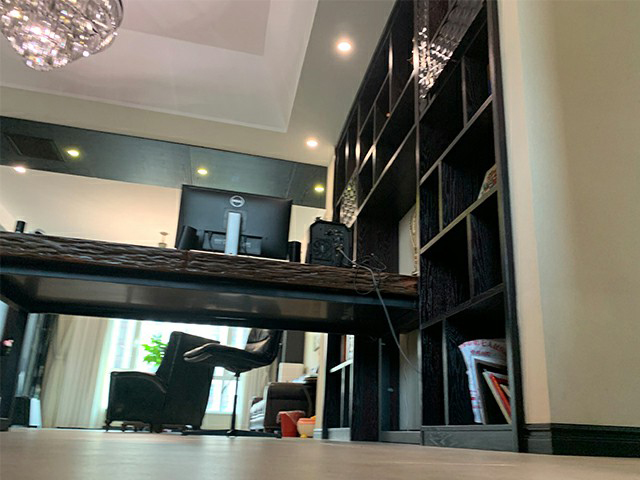cabinet: (306, 284, 527, 446)
curtain: (38, 311, 108, 429)
sofa: (102, 330, 220, 433), (247, 369, 317, 436)
stool: (181, 328, 282, 438)
table: (1, 232, 424, 446)
trashcan: (276, 409, 305, 438)
